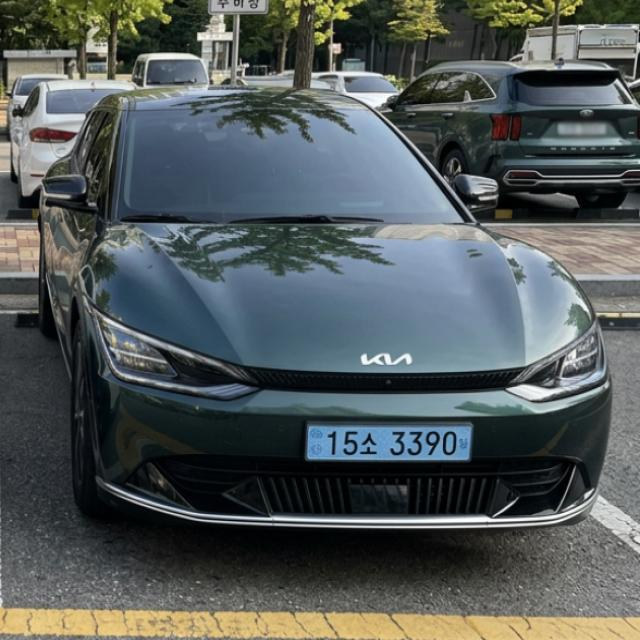car: (295, 418, 492, 470)
carev: (305, 417, 328, 465), (457, 418, 476, 468)
